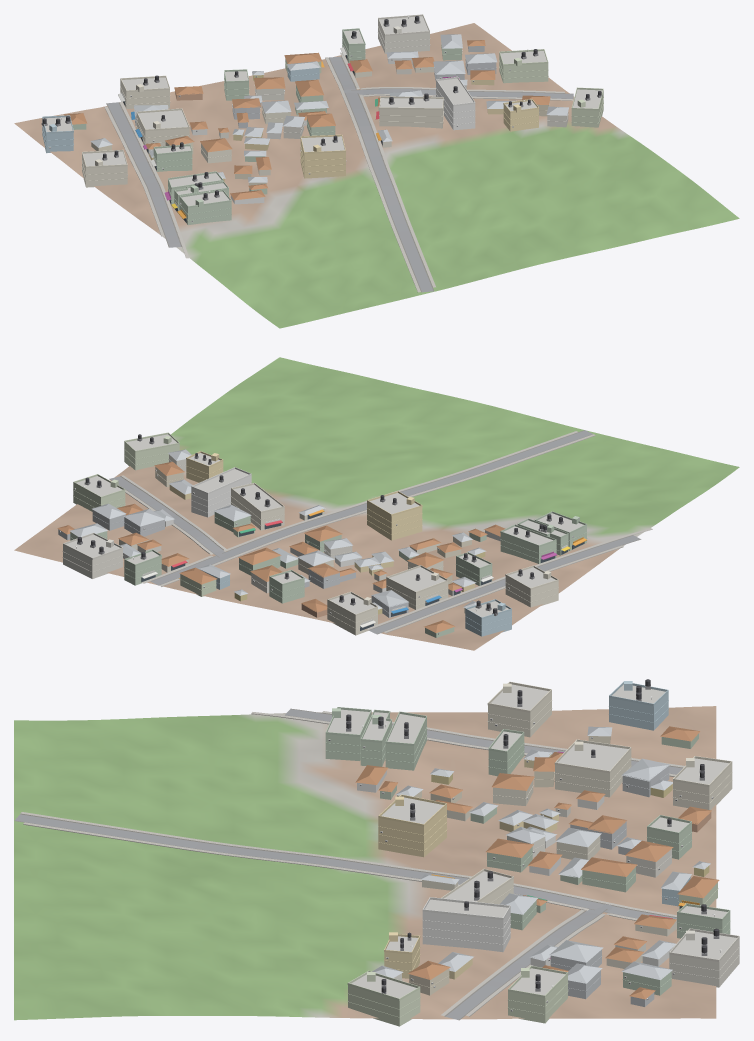
3 views of the same model, one above another, from view 1: azimuth 30°, elevation 25°; view 2: azimuth 150°, elevation 25°; view 3: azimuth 270°, elevation 25° (orthographic). The views are drawn at different scales.
Parts seen in each view (by area): view 1: Terrain-col, Buildings-col, Details, Roads-col, Sidewalks-col; view 2: Terrain-col, Buildings-col, Details, Roads-col, Sidewalks-col; view 3: Terrain-col, Buildings-col, Details, Roads-col, Sidewalks-col.
Part boxes in pixels (x1,y1,x2,y2): Terrain-col: (14, 23, 739, 328); Buildings-col: (42, 16, 603, 225); Details: (41, 14, 603, 222); Roads-col: (106, 56, 573, 292); Sidewalks-col: (104, 52, 573, 292); Terrain-col: (14, 357, 739, 650); Buildings-col: (57, 434, 586, 637); Details: (59, 432, 587, 634); Roads-col: (109, 430, 641, 634); Sidewalks-col: (121, 431, 652, 633); Terrain-col: (14, 706, 716, 1020); Buildings-col: (325, 684, 739, 1026); Details: (325, 679, 739, 1017); Roads-col: (14, 708, 682, 1020); Sidewalks-col: (20, 711, 684, 1016).
Bounding box in the file's own units: 265 × 18.85 × 265.
